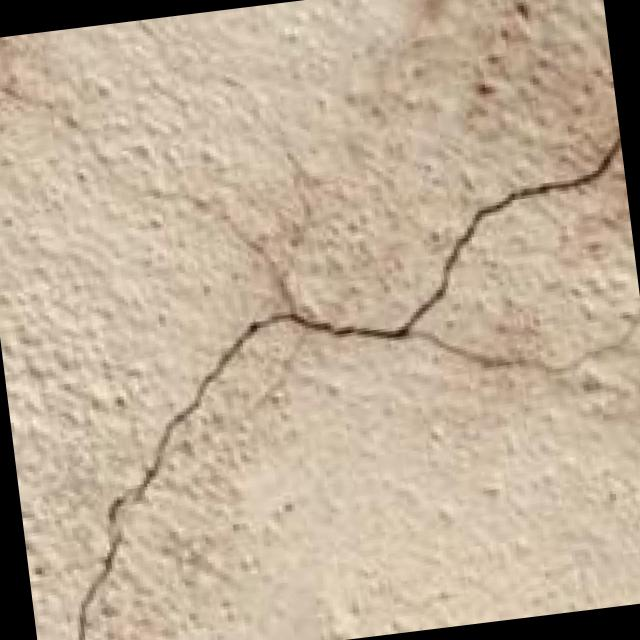crack: (6, 109, 640, 640)
